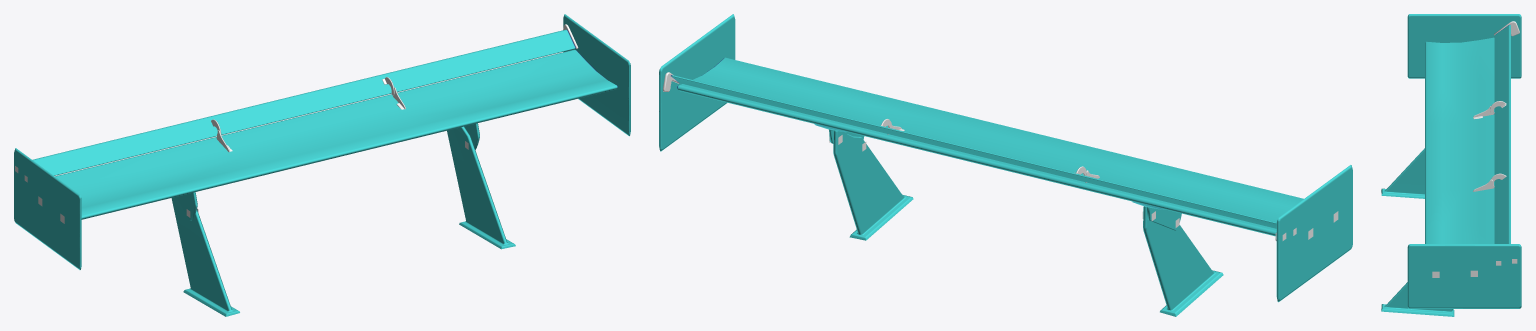
File: Car_Buick_GrandNational_1987_Spoiler_SetDD.fbx
The picture shows the model from 3 angles, left to right: view 1: azimuth 30°, elevation 25°; view 2: azimuth 150°, elevation 25°; view 3: azimuth 270°, elevation 25°; orthographic projection. The views are drawn at different scales.
Parts seen in each view (by area): view 1: Spoiler 6; view 2: Spoiler 6; view 3: Spoiler 6.
Boxes of the visible parts, <box> form: Spoiler 6: <box>14,14,630,316</box>; Spoiler 6: <box>659,14,1352,316</box>; Spoiler 6: <box>1381,14,1521,316</box>.
Bounding box in the file's own units: 1.83 × 0.4684 × 0.4684.
